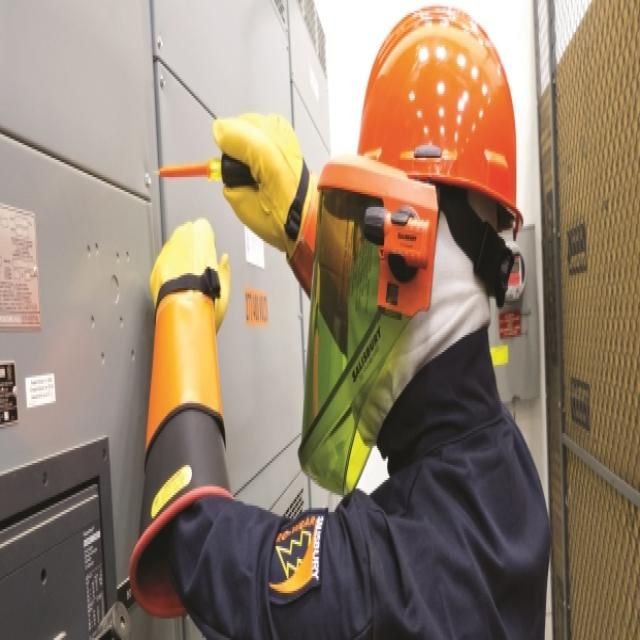gloves: (126, 220, 231, 618), (213, 108, 354, 330)
